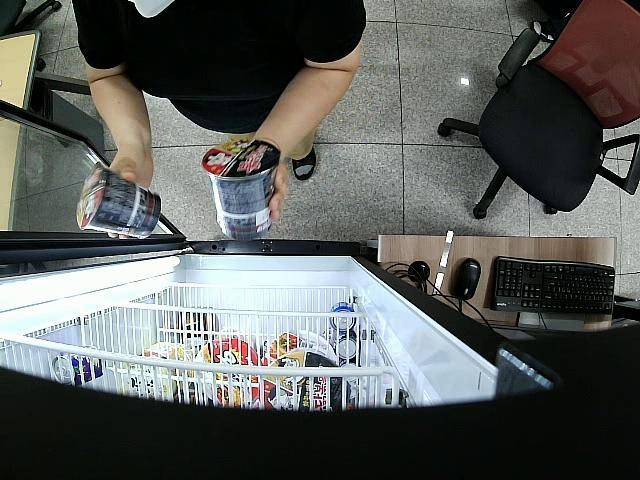08_buldak_S: (202, 138, 280, 241), (76, 161, 161, 238)
